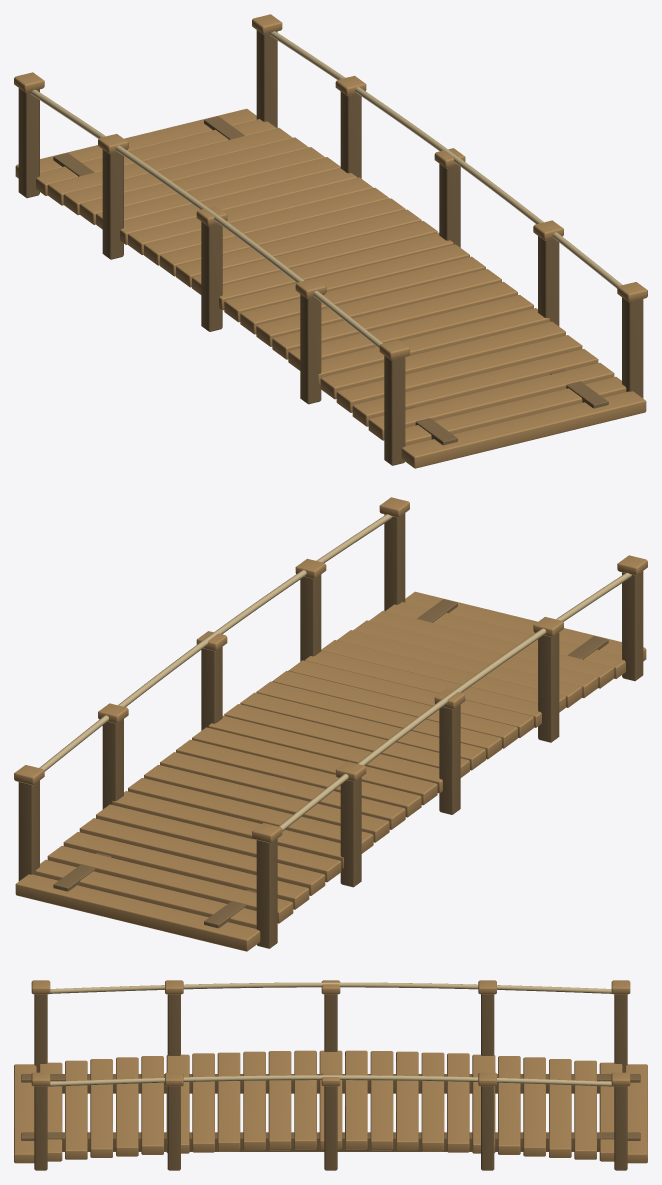
File: bridge.glb
3 renders of one model, top to bottom at view 1: azimuth 30°, elevation 25°; view 2: azimuth 150°, elevation 25°; view 3: azimuth 270°, elevation 25°, orthographic. The views are drawn at different scales.
Visible parts, largest first — view 1: bridge__Bridge_planks, bridge__Bridge_structure, bridge__Rope; view 2: bridge__Bridge_planks, bridge__Bridge_structure, bridge__Rope; view 3: bridge__Bridge_planks, bridge__Bridge_structure, bridge__Rope.
Part boxes in pixels (x1=…): bridge__Bridge_planks: x1=14, y1=14, x2=647, y2=468; bridge__Bridge_structure: x1=18, y1=30, x2=643, y2=465; bridge__Rope: x1=30, y1=31, x2=622, y2=348; bridge__Bridge_planks: x1=14, y1=497, x2=647, y2=951; bridge__Bridge_structure: x1=18, y1=513, x2=643, y2=948; bridge__Rope: x1=39, y1=514, x2=631, y2=831; bridge__Bridge_planks: x1=14, y1=980, x2=647, y2=1163; bridge__Bridge_structure: x1=21, y1=994, x2=640, y2=1170; bridge__Rope: x1=48, y1=982, x2=613, y2=1086.
Bounding box in the file's own units: 3.02 × 1.31 × 8.09.
